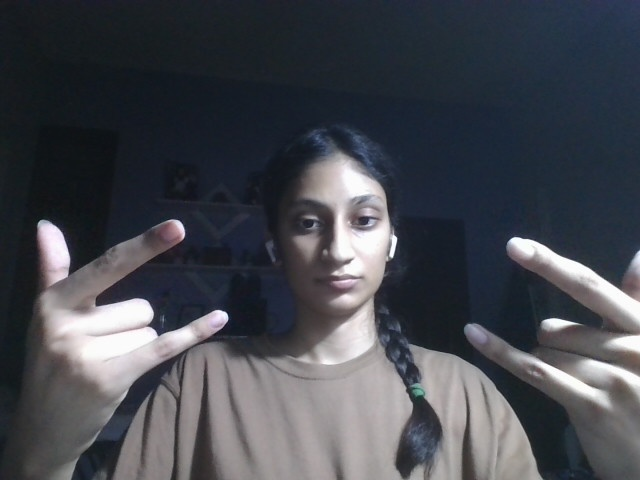i love you: (22, 213, 228, 458), (463, 235, 640, 442)
